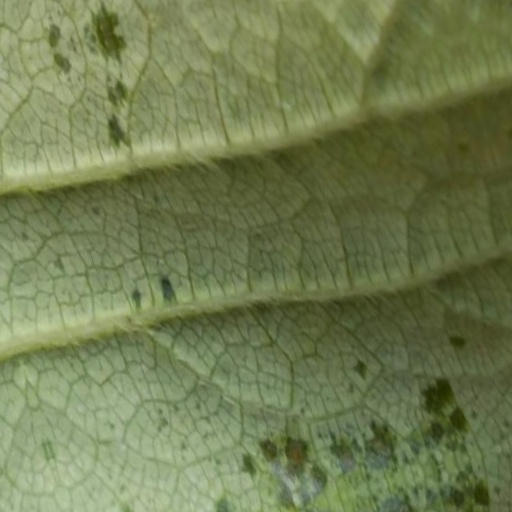Angular Leafspot: (32, 0, 462, 511)
